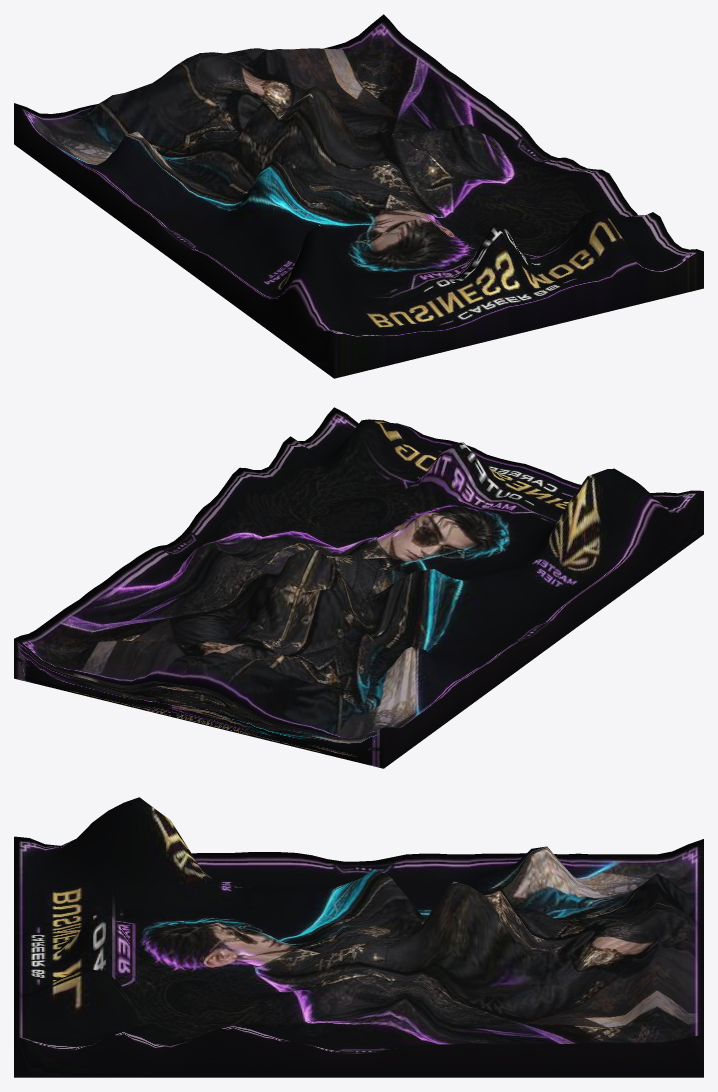
File: CAREER_08_Outfit_04_Master.glb
The picture shows the model from 3 angles, top to bottom: view 1: azimuth 30°, elevation 25°; view 2: azimuth 150°, elevation 25°; view 3: azimuth 270°, elevation 25°; orthographic projection. The views are drawn at different scales.
Parts seen in each view (by area): view 1: CAREER_08_Outfit_04_Master; view 2: CAREER_08_Outfit_04_Master; view 3: CAREER_08_Outfit_04_Master.
Part boxes in pixels (x1,y1,x2,y2): CAREER_08_Outfit_04_Master: [14, 14, 703, 378]; CAREER_08_Outfit_04_Master: [14, 407, 703, 768]; CAREER_08_Outfit_04_Master: [14, 797, 703, 1077].
Bounding box in the file's own units: 2 × 0.51 × 3.
Materials: 1 (1 with a texture image).
